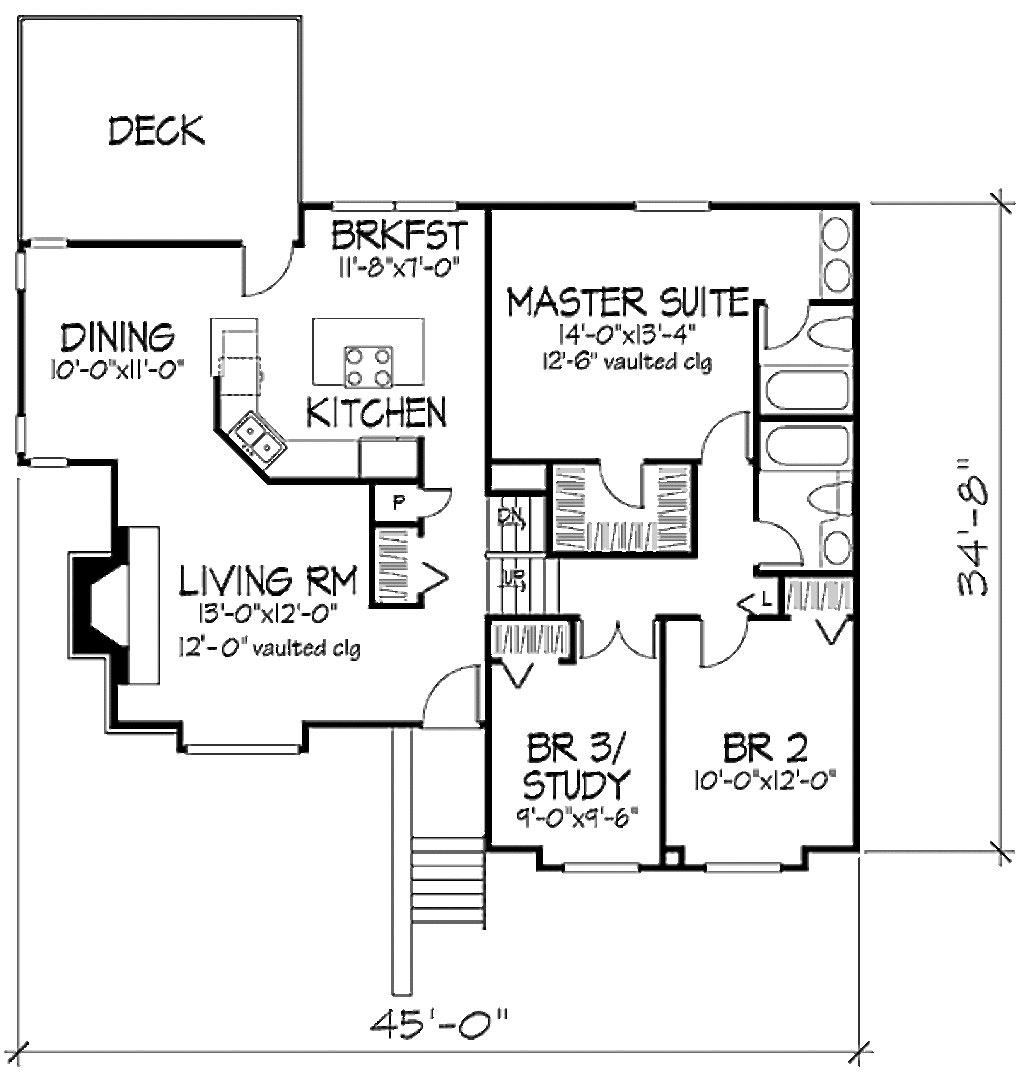door: (414, 657, 496, 727), (750, 285, 812, 360), (233, 234, 299, 302), (567, 615, 655, 664), (687, 612, 759, 669), (694, 402, 754, 469), (595, 457, 657, 514), (747, 514, 802, 574), (406, 487, 461, 524)
kitchen_bar: (293, 307, 434, 397)
large_sink: (749, 419, 860, 469), (760, 364, 852, 414), (804, 309, 857, 364), (804, 479, 864, 519)
small_sink: (814, 512, 857, 575), (819, 216, 852, 295)
stairs: (403, 730, 494, 932), (491, 487, 564, 610)
twin_sink: (219, 395, 298, 484)
window: (323, 189, 468, 223), (183, 739, 304, 762), (627, 194, 724, 219), (559, 847, 645, 875), (697, 857, 790, 875), (9, 241, 34, 294), (21, 231, 73, 253), (11, 410, 31, 457)
